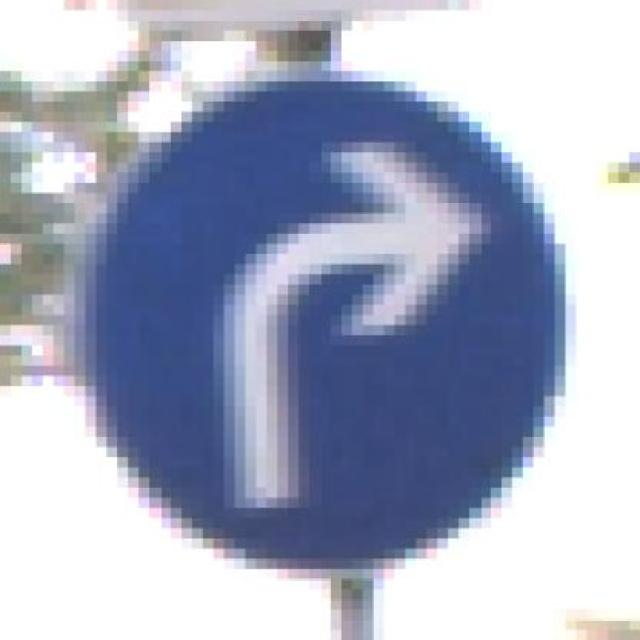Turn right ahead: (64, 71, 576, 589)
